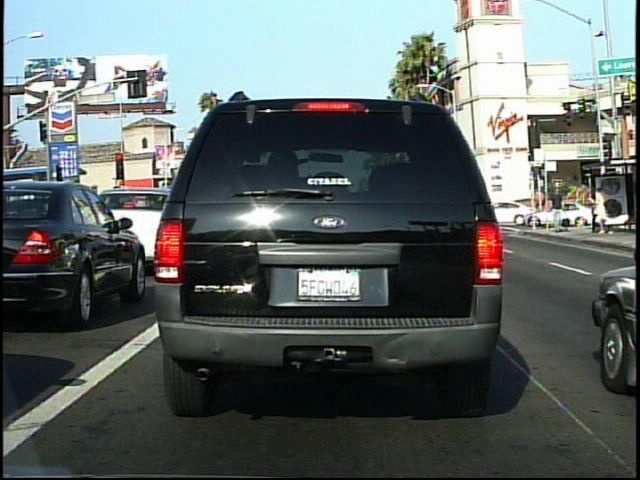person: (587, 182, 615, 239), (548, 186, 569, 236)
